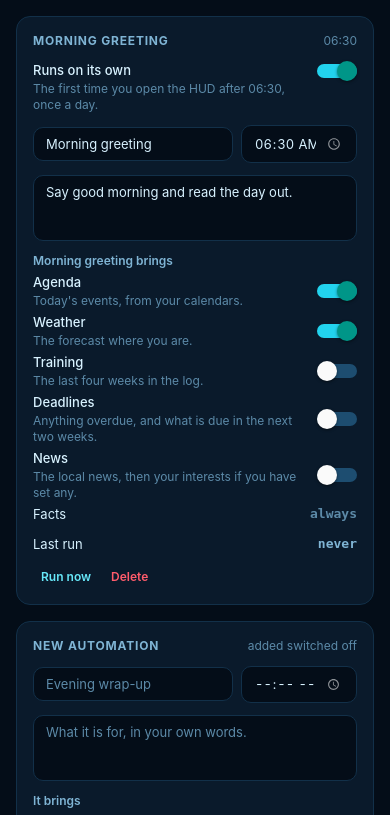
Test case: says why a write failed, on the card it came from
This screenshot has width=390, height=815.
Step 1. Click the switch with test id "automation-1-enabled" → [337, 71], box [317,61,357,81]
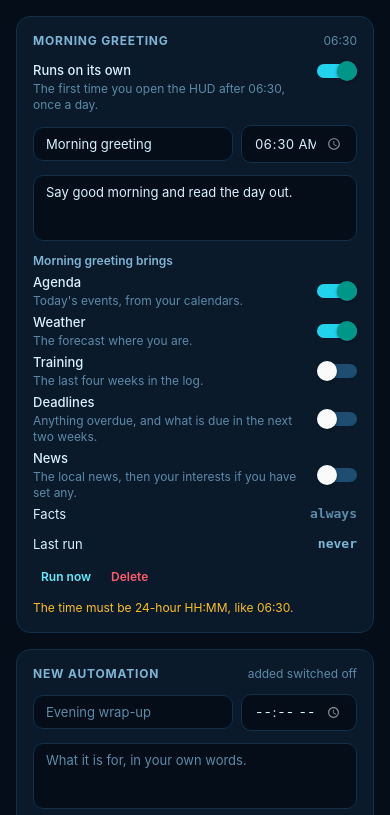
Result: the text "The time must be 24-hour HH:MM, like 06:30." is shown at [33,600,294,615]
